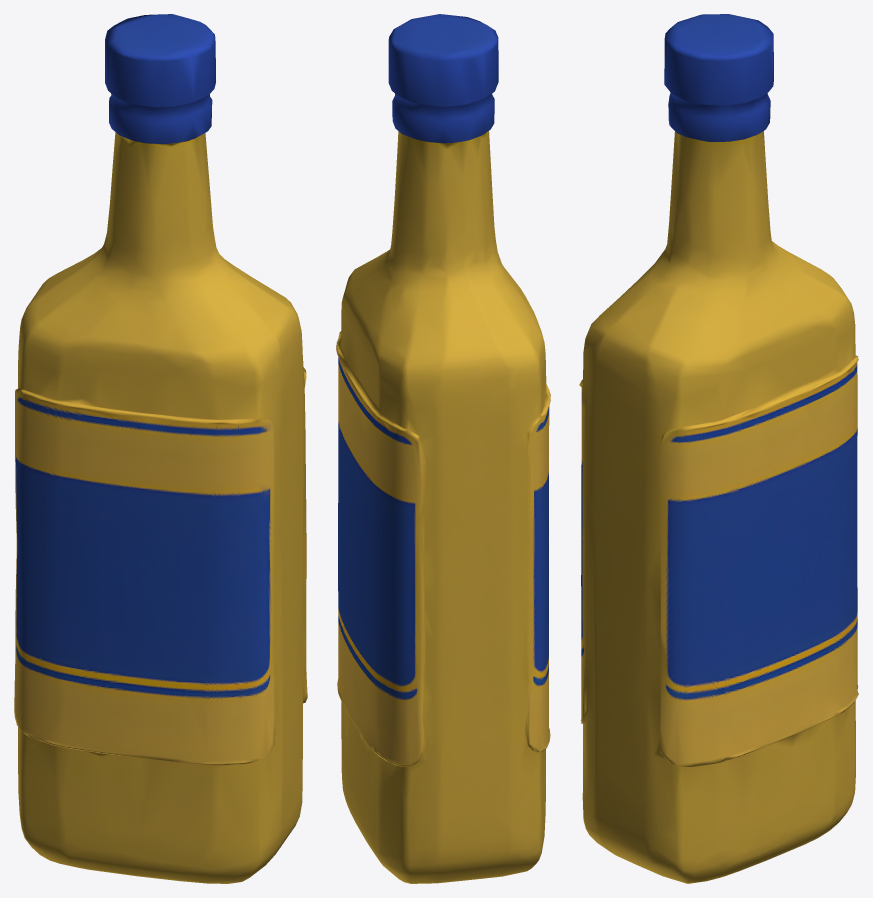
The model's file is ricard.glb.
The picture shows the model from 3 angles, left to right: view 1: azimuth 30°, elevation 25°; view 2: azimuth 150°, elevation 25°; view 3: azimuth 270°, elevation 25°; orthographic projection.
Visible parts, largest first — view 1: tripo_node_7955abe6-1cbc-40ce-86db-4b553a765ef2; view 2: tripo_node_7955abe6-1cbc-40ce-86db-4b553a765ef2; view 3: tripo_node_7955abe6-1cbc-40ce-86db-4b553a765ef2.
Boxes of the visible parts, x1,y1,x2,y2 form: tripo_node_7955abe6-1cbc-40ce-86db-4b553a765ef2: (14,14,307,883); tripo_node_7955abe6-1cbc-40ce-86db-4b553a765ef2: (336,14,550,883); tripo_node_7955abe6-1cbc-40ce-86db-4b553a765ef2: (579,14,858,883).
Bounding box in the file's own units: 0.3115 × 1 × 0.3151.
Materials: 1 (1 with a texture image).
